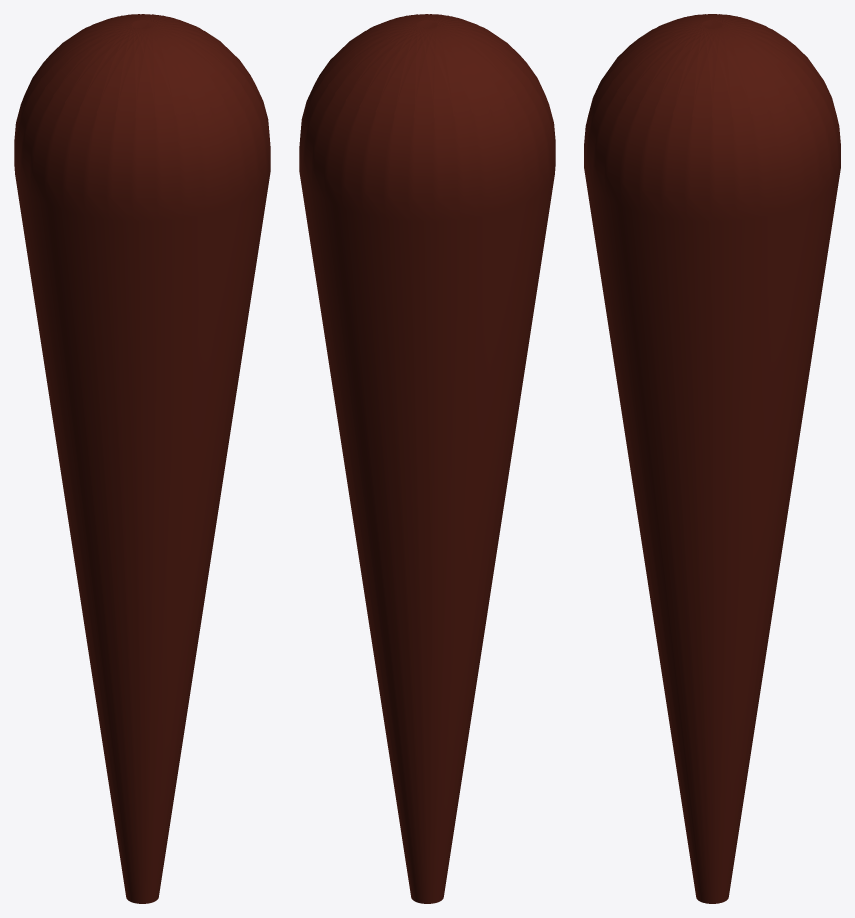
File: Club.fbx
3 views of the same model, side by side, from view 1: azimuth 30°, elevation 25°; view 2: azimuth 150°, elevation 25°; view 3: azimuth 270°, elevation 25° (orthographic).
Visible parts, largest first — view 1: Cylinder; view 2: Cylinder; view 3: Cylinder.
Part boxes in pixels (x1,y1,x2,y2): Cylinder: (14,14,270,903); Cylinder: (299,14,555,903); Cylinder: (584,14,840,903).
Size of the model in its own units: 282 by 1056 by 282.
